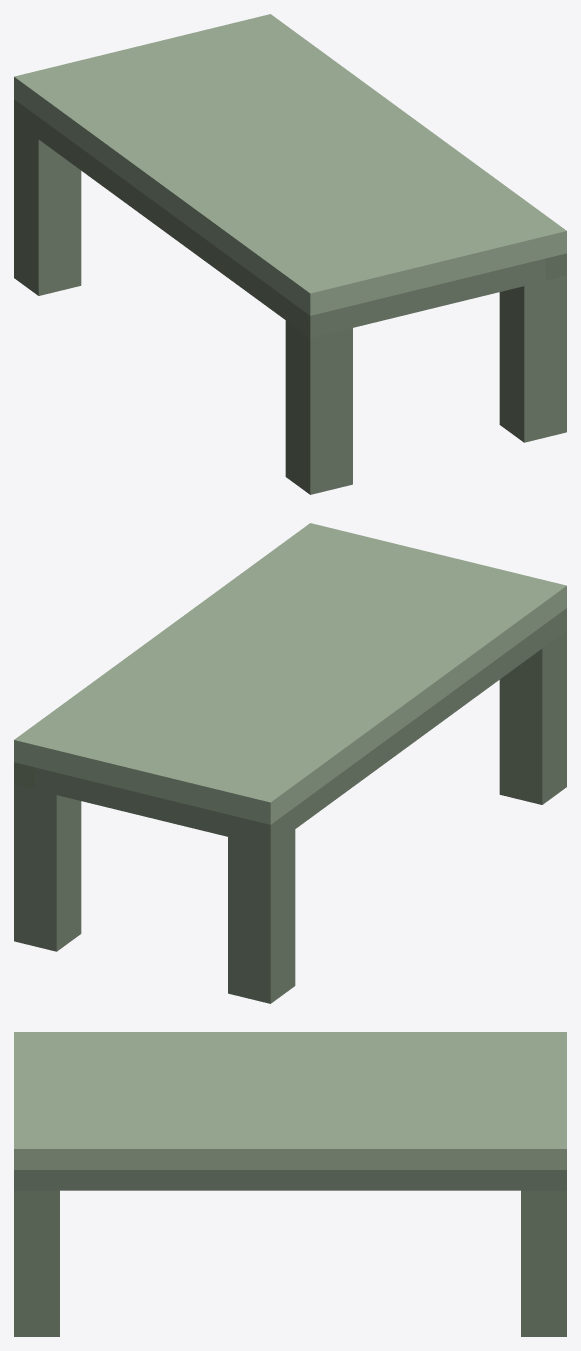
Rendered from mesa_alquimia_desgastada_01.glb.
The picture shows the model from 3 angles, top to bottom: view 1: azimuth 30°, elevation 25°; view 2: azimuth 150°, elevation 25°; view 3: azimuth 270°, elevation 25°; orthographic projection. The views are drawn at different scales.
Parts seen in each view (by area): view 1: mesa_alquimia_desgastada; view 2: mesa_alquimia_desgastada; view 3: mesa_alquimia_desgastada.
Part boxes in pixels (bbox=[...]): mesa_alquimia_desgastada: bbox=[14, 14, 566, 494]; mesa_alquimia_desgastada: bbox=[14, 523, 566, 1003]; mesa_alquimia_desgastada: bbox=[14, 1032, 566, 1336].
Bounding box in the file's own units: 1 × 0.75 × 2.
